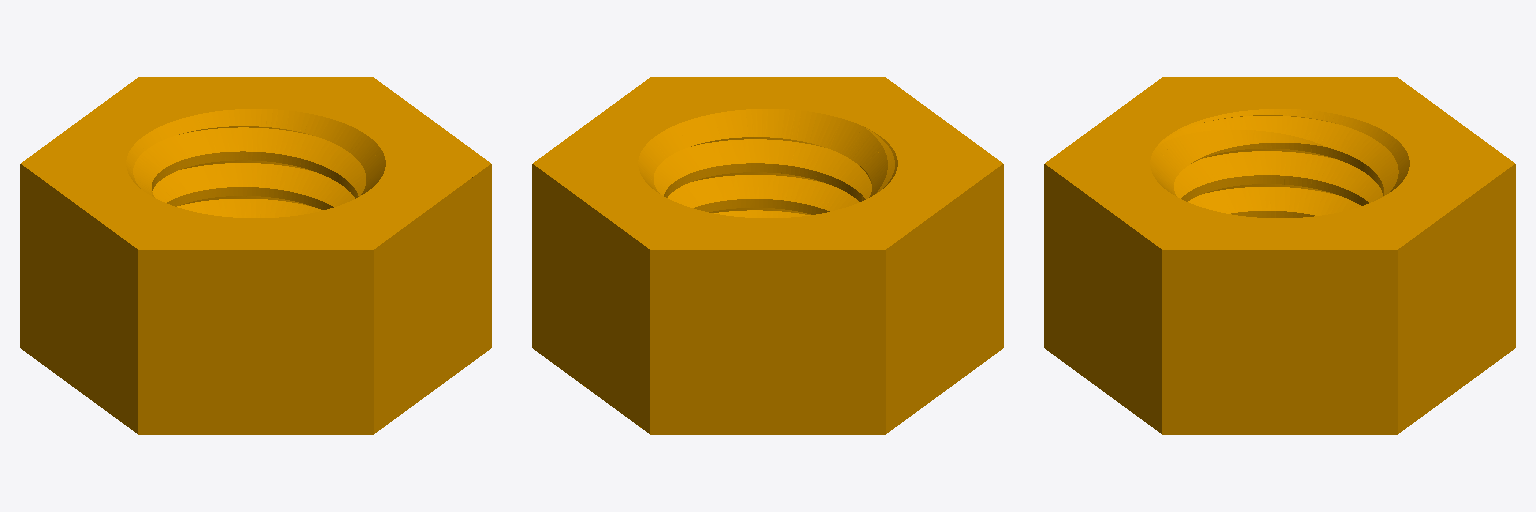
robot.urdf — factory_nut_m8_tight:
<?xml version="1.0"?>
<robot name="factory_nut_m8_tight">
    <link name="factory_nut_m8_tight">
        <visual>
            <geometry>
                <mesh filename="../mesh/factory_nut_bolt/factory_nut_m8_tight_subdiv_3x.obj"/>
            </geometry>
        </visual>
        <collision>
            <geometry>
                <mesh filename="../mesh/factory_nut_bolt/factory_nut_m8_tight_subdiv_3x.obj"/>
            </geometry>
            <sdf resolution="256"/>
        </collision>
    </link>
</robot>

--- What the picture shows (computed from the rendered views, not written in the file) ---
3 views of the same robot in one strip: view 1: azimuth 30°, elevation 25°; view 2: azimuth 150°, elevation 25°; view 3: azimuth 270°, elevation 25° (orthographic).
Robot: factory_nut_m8_tight — 1 links, 0 joints (none); root link factory_nut_m8_tight; default pose: all joints at 0.
Visible links, largest first — view 1: factory_nut_m8_tight; view 2: factory_nut_m8_tight; view 3: factory_nut_m8_tight.
Link boxes in pixels (x1,y1,x2,y2): factory_nut_m8_tight: (20,77,491,434); factory_nut_m8_tight: (532,77,1003,434); factory_nut_m8_tight: (1044,77,1515,434).
Bounding box of the posed robot: 0.013 × 0.015 × 0.0065 m (x, y, z).
Meshes: 1 distinct files referenced, 1 mesh visuals loaded (1 OBJ).